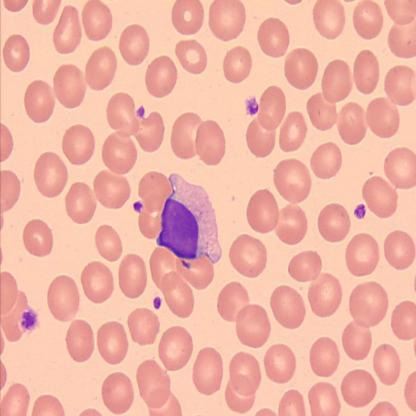Lymphocyte: (155, 171, 224, 270)
